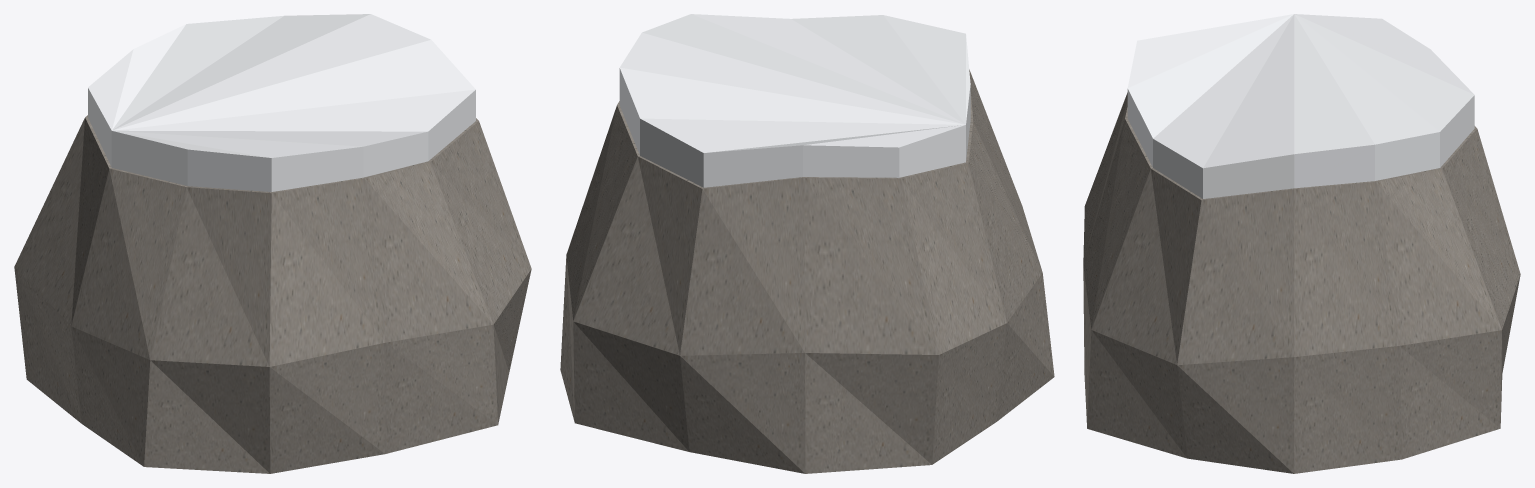
The model's file is boulder_snow.glb.
3 views of the same model, side by side, from view 1: azimuth 30°, elevation 25°; view 2: azimuth 150°, elevation 25°; view 3: azimuth 270°, elevation 25° (orthographic). The views are drawn at different scales.
Parts seen in each view (by area): view 1: canonical_base, snow_accumulation; view 2: canonical_base, snow_accumulation; view 3: canonical_base, snow_accumulation.
Part boxes in pixels (x1=…): canonical_base: x1=14, y1=115, x2=531, y2=473; snow_accumulation: x1=88, y1=14, x2=475, y2=191; canonical_base: x1=560, y1=69, x2=1054, y2=473; snow_accumulation: x1=619, y1=14, x2=970, y2=187; canonical_base: x1=1083, y1=92, x2=1520, y2=473; snow_accumulation: x1=1127, y1=14, x2=1474, y2=198.
Bounding box in the file's own units: 1.4 × 0.9625 × 1.3.
2 materials, 1 textured.
